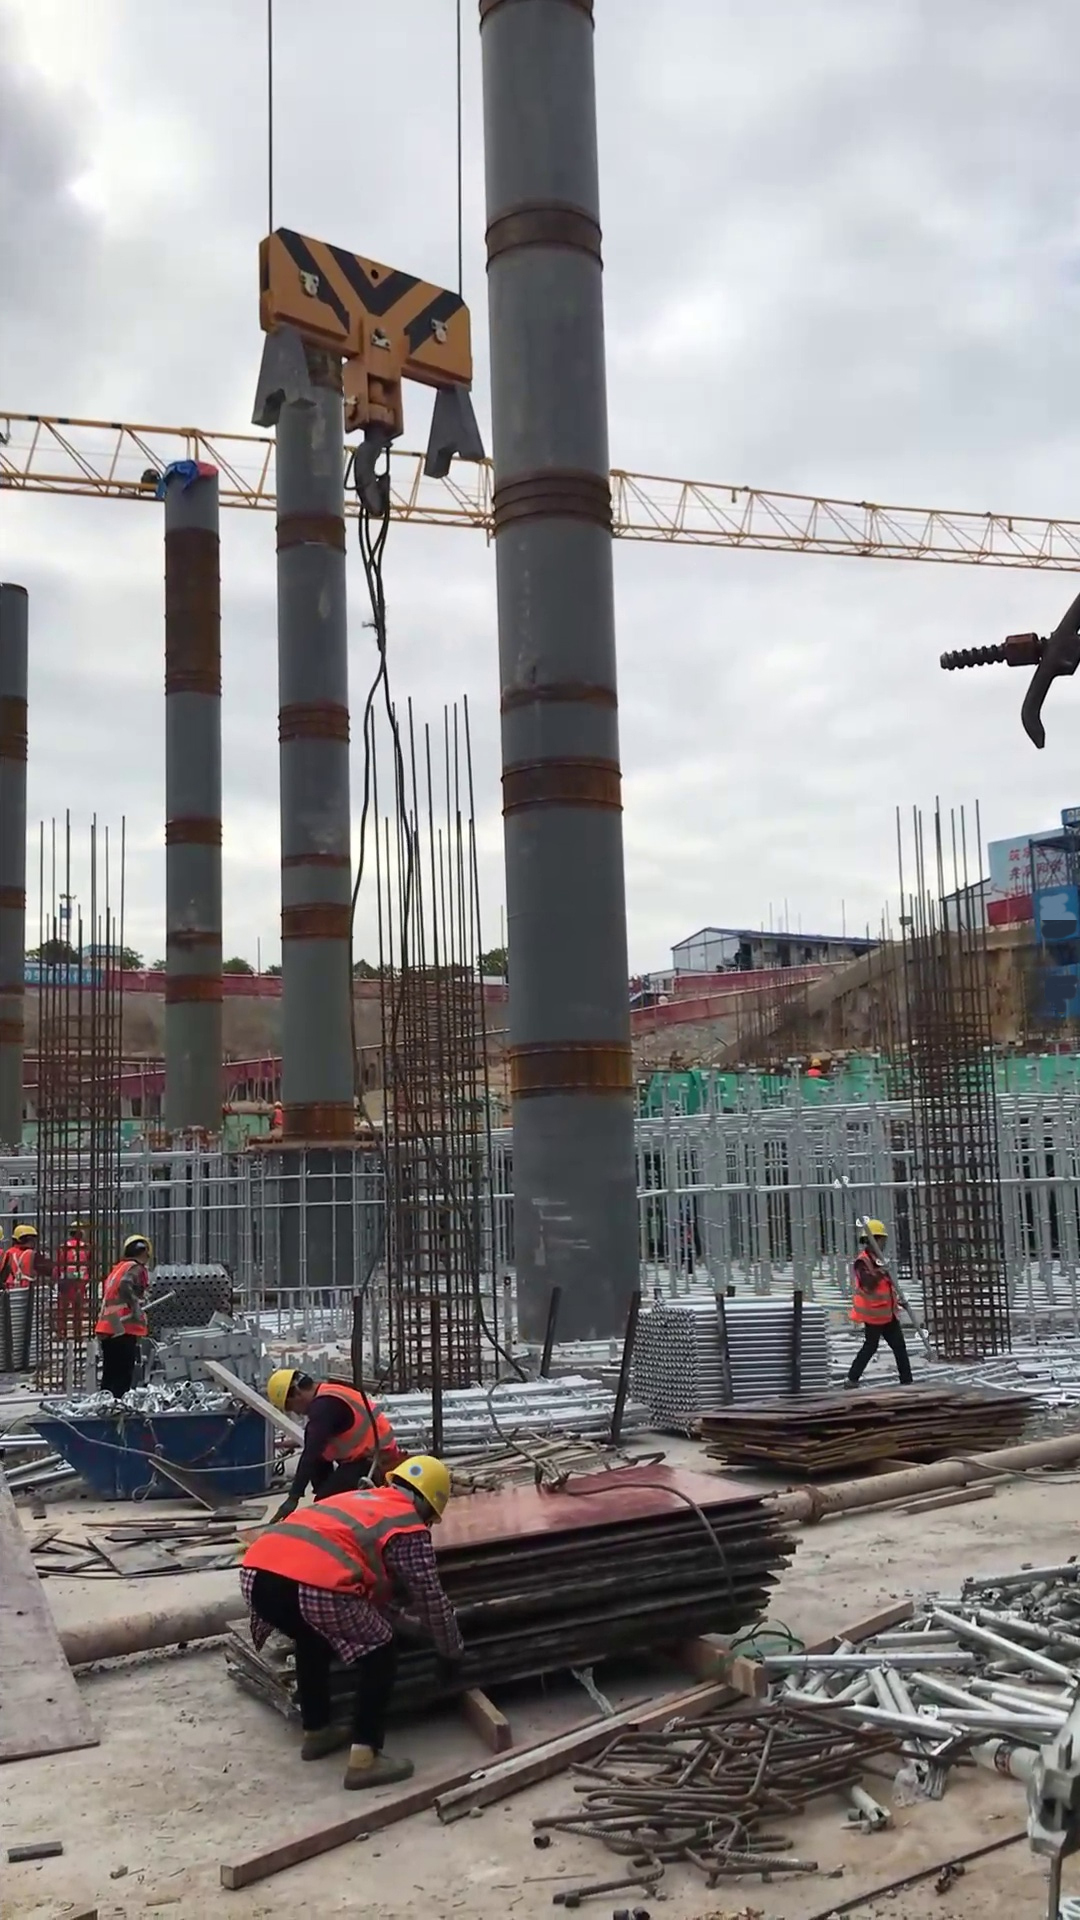board: (409, 1441, 821, 1706), (702, 1375, 1049, 1498)
helmet: (385, 1449, 460, 1529), (264, 1361, 300, 1426), (853, 1217, 894, 1249), (118, 1229, 154, 1263), (10, 1221, 39, 1243)
hook: (242, 220, 495, 532)
hopper: (26, 1396, 268, 1515)
person: (221, 1453, 472, 1790), (255, 1361, 407, 1529), (842, 1211, 935, 1393), (87, 1228, 161, 1417), (1, 1213, 44, 1303)
scaffold: (618, 1279, 839, 1442), (151, 1258, 240, 1331)
vest: (230, 1482, 424, 1601), (317, 1378, 399, 1472), (93, 1264, 155, 1344), (847, 1253, 905, 1331), (3, 1244, 40, 1293)
